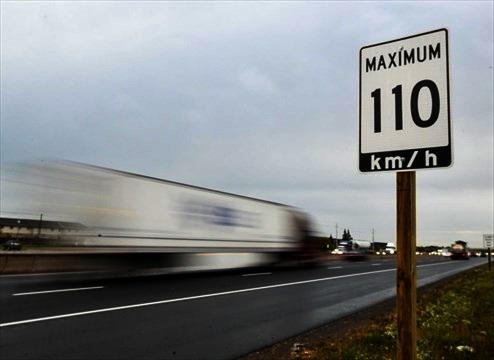speed limit sign: (357, 29, 450, 176)
